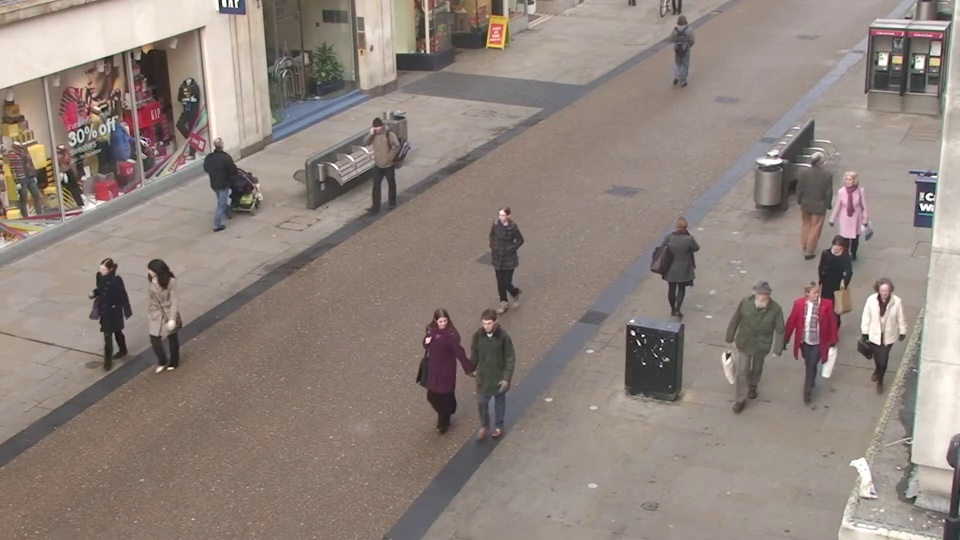pedestrian: (852, 279, 908, 420), (77, 257, 135, 387), (731, 288, 782, 430), (126, 261, 181, 392), (414, 309, 463, 454), (781, 278, 832, 417), (459, 312, 507, 459), (804, 237, 853, 365), (661, 209, 702, 330), (480, 206, 520, 328), (823, 169, 866, 280), (796, 147, 835, 251), (204, 132, 243, 230), (354, 119, 389, 216), (670, 12, 694, 80)
